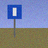sign: (7, 5, 21, 37)
